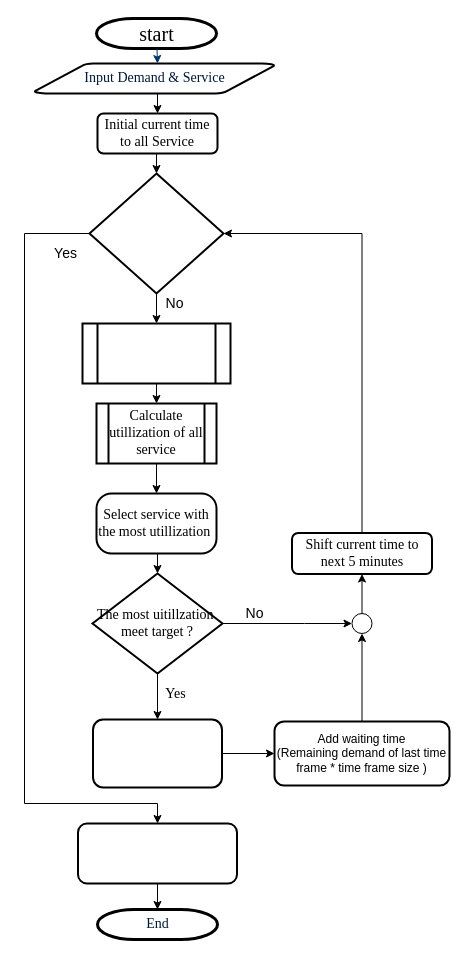
Image size: 468x958. Some labels were removed from this diagram. Here are the shapes that lost their labels. From the top down, the box of each, then its label:
(88, 172, 224, 294): Is this service departure time within the last timeframe?
(81, 322, 231, 384): Gathering demand of concerning time frame of current time
(92, 718, 222, 788): Decrease demand according to the service and time frame
(76, 822, 238, 884): Write Output to file Sent to Timetabling System
